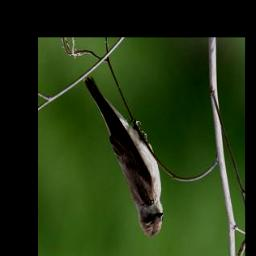Swallow: (82, 74, 164, 239)
